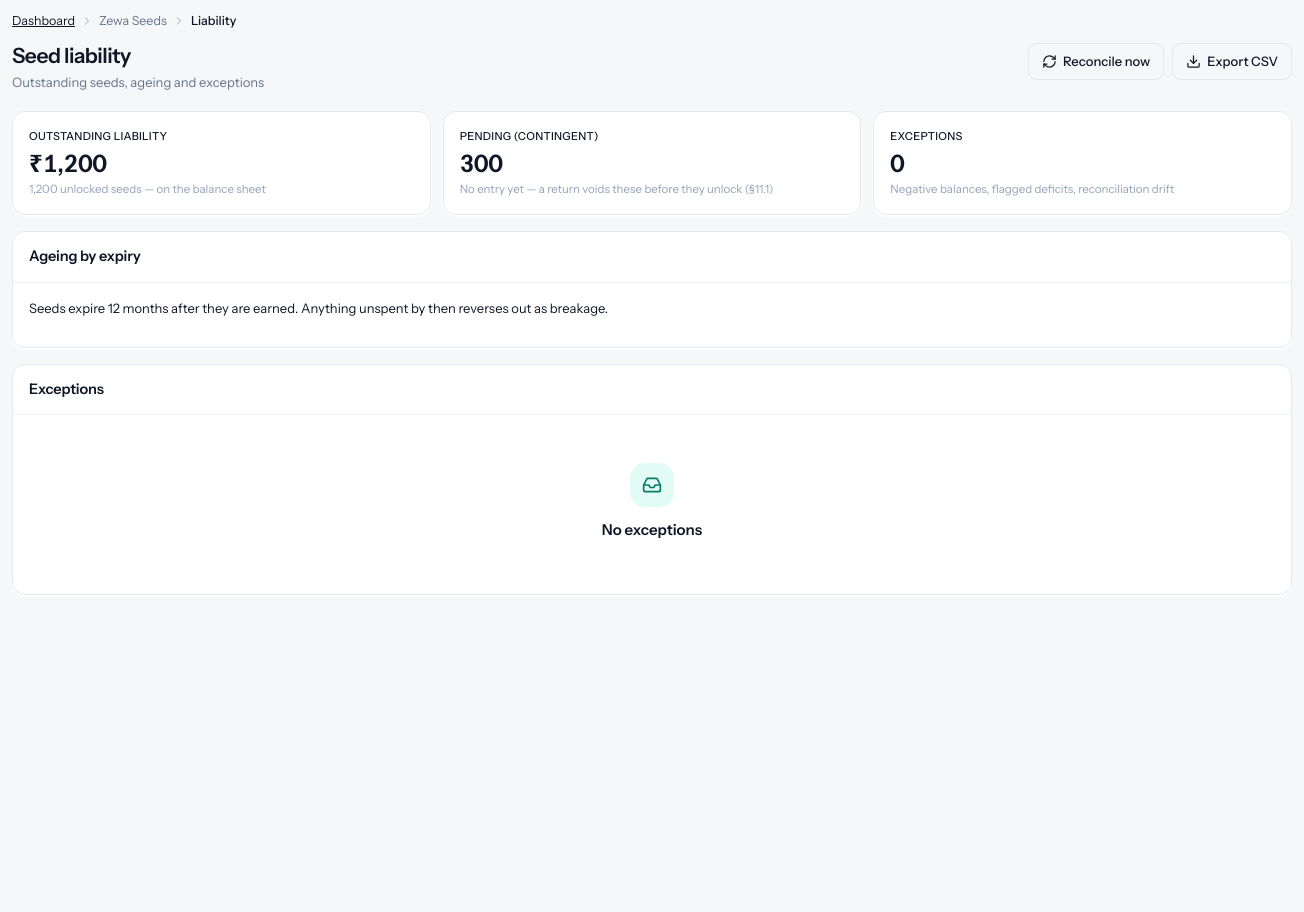
the liability CSV export › reports a failed export instead of failing silently
Click the button "Export CSV": (1232, 62) x1=1172 y1=43 x2=1292 y2=80
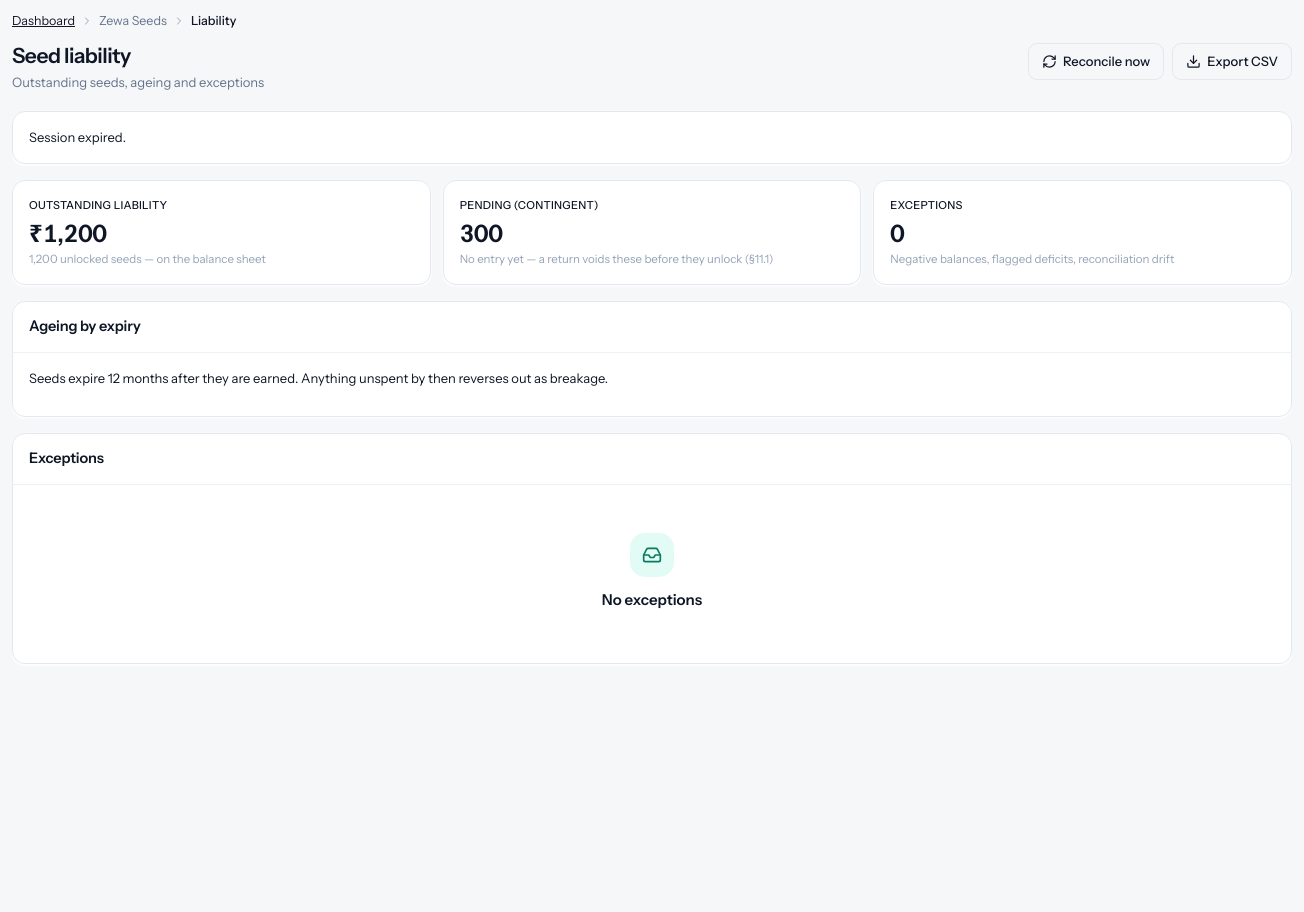
Check: the text "Session expired." is shown, box x1=29 y1=128 x2=126 y2=144
